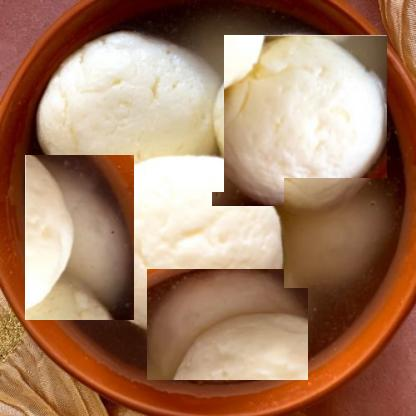rasgulla: (88, 156, 282, 336), (213, 34, 386, 208), (40, 30, 224, 192), (146, 268, 308, 380), (25, 154, 134, 320), (284, 178, 392, 288)
